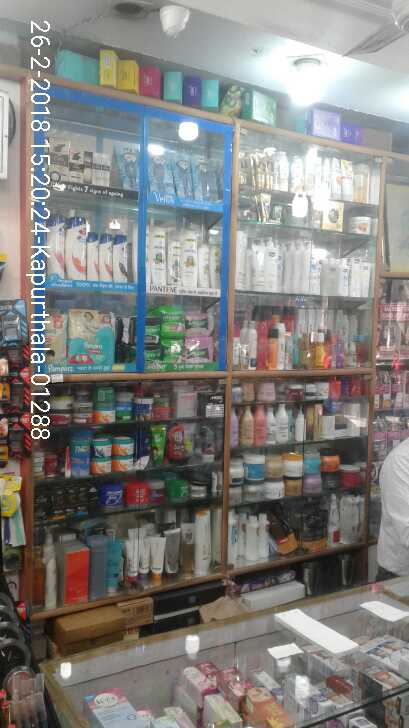venus: (172, 155, 195, 200), (195, 157, 215, 200), (120, 145, 139, 188), (152, 155, 172, 190)
